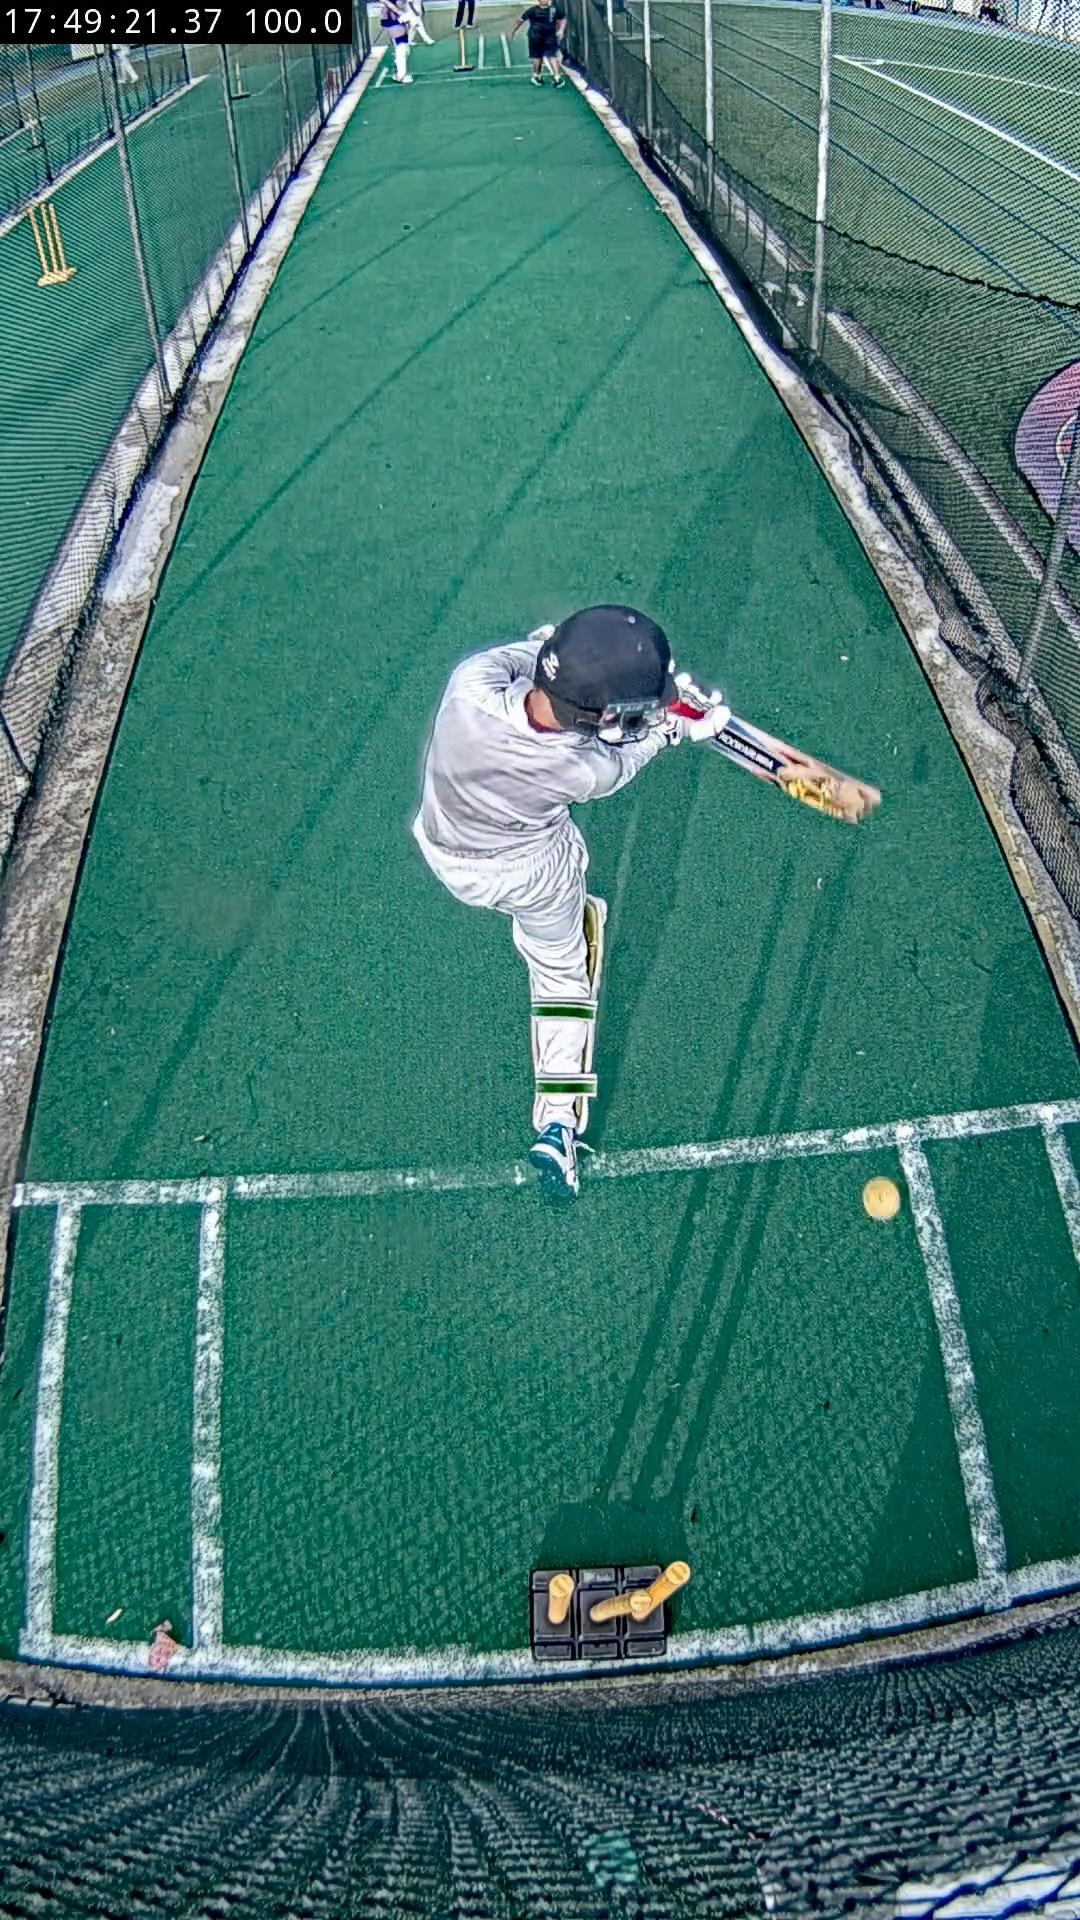ball: (862, 1178, 899, 1222)
bat: (708, 716, 881, 823)
gloves: (671, 671, 732, 742)
helmet: (533, 604, 675, 746)
pads: (585, 897, 608, 996)
stumps: (529, 1560, 690, 1662)
